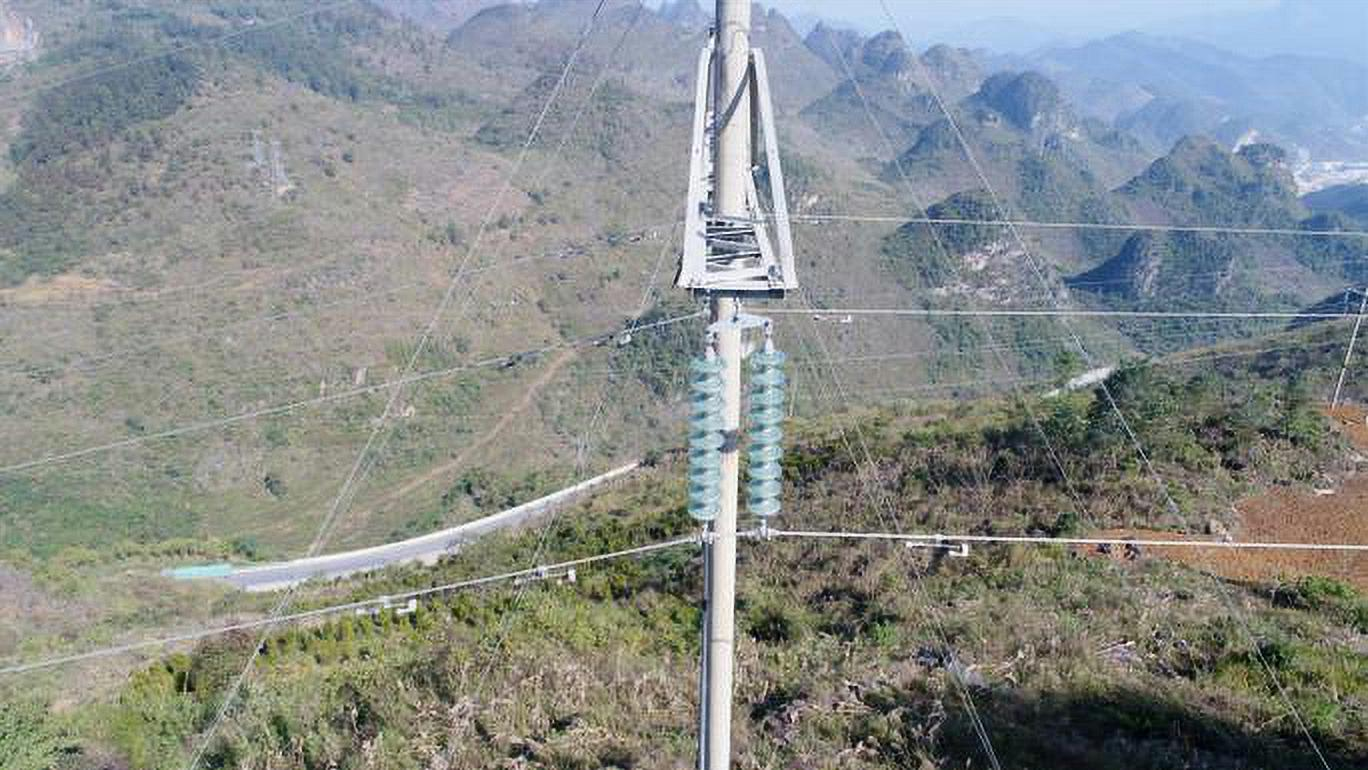insulator: (744, 344, 789, 520), (683, 351, 728, 524)
